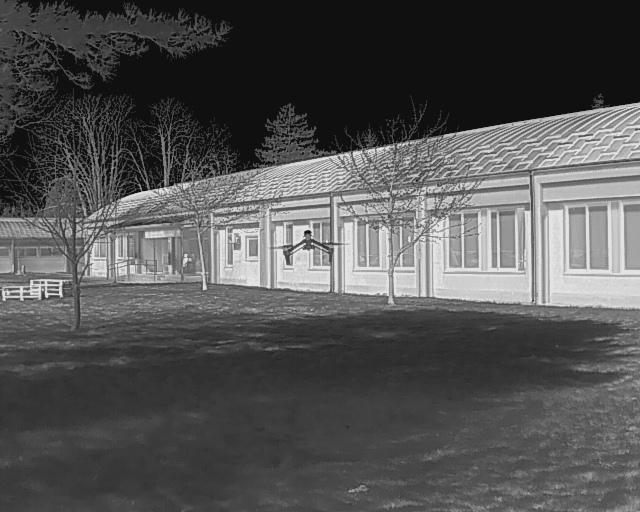drone: (270, 222, 349, 279)
